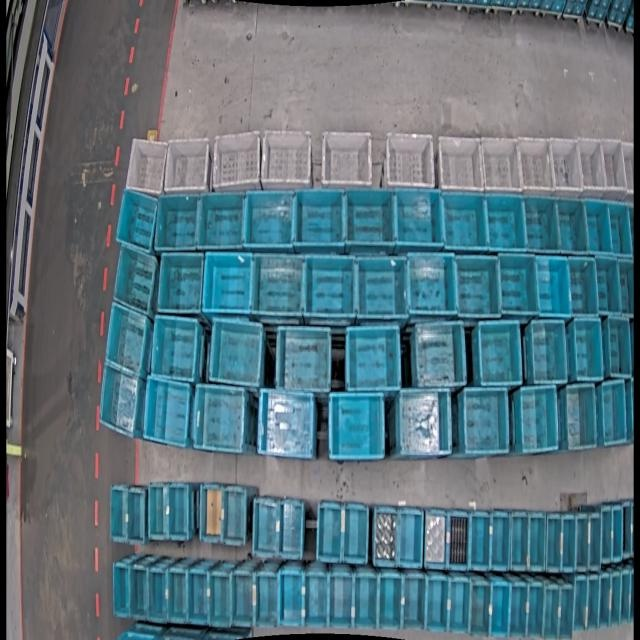Box: (327, 392, 384, 461), (208, 318, 264, 388), (343, 323, 399, 393), (258, 392, 315, 459), (273, 326, 329, 394), (193, 384, 245, 454), (147, 314, 200, 382), (110, 243, 159, 316), (139, 378, 190, 448), (251, 252, 304, 318), (100, 304, 148, 375), (201, 250, 252, 316), (398, 388, 446, 458), (306, 254, 358, 318), (97, 368, 143, 440), (413, 322, 462, 389), (156, 250, 205, 316), (354, 255, 405, 318), (212, 131, 262, 195), (262, 127, 313, 189), (291, 188, 343, 248), (322, 128, 373, 189), (408, 253, 457, 316), (462, 388, 508, 455), (386, 132, 436, 192), (344, 188, 394, 248), (478, 320, 523, 386), (246, 188, 295, 248), (114, 188, 158, 253), (198, 190, 245, 250), (396, 188, 443, 248), (154, 191, 200, 252), (456, 255, 501, 317), (162, 137, 208, 197), (520, 387, 561, 453), (438, 136, 483, 196), (440, 190, 485, 250), (124, 138, 168, 198), (484, 194, 525, 252), (528, 320, 565, 384), (499, 254, 537, 316), (480, 138, 521, 195), (518, 137, 555, 195), (534, 256, 569, 316), (522, 195, 558, 252), (570, 318, 602, 381), (564, 386, 595, 448), (555, 196, 588, 254), (550, 138, 583, 195), (599, 382, 627, 446), (567, 257, 596, 316), (603, 316, 630, 378), (584, 198, 613, 254), (254, 498, 281, 558), (219, 486, 246, 546), (343, 503, 369, 563), (398, 508, 424, 568), (578, 139, 606, 194), (600, 140, 629, 193), (316, 502, 342, 561), (373, 507, 398, 568), (278, 501, 304, 559), (165, 484, 191, 540), (303, 570, 328, 628), (198, 482, 222, 542), (423, 508, 447, 567), (595, 258, 620, 314), (328, 574, 352, 628), (379, 575, 402, 631), (355, 572, 377, 630), (255, 572, 278, 627), (279, 571, 302, 625), (609, 201, 632, 255), (468, 511, 489, 570), (232, 572, 254, 628), (187, 570, 209, 625), (403, 574, 425, 629), (510, 511, 530, 571), (208, 572, 230, 626), (426, 578, 448, 632), (490, 581, 511, 637), (490, 511, 509, 570), (470, 581, 490, 637), (448, 514, 468, 570), (167, 571, 187, 625), (450, 579, 470, 633), (129, 566, 148, 621), (128, 489, 147, 544), (526, 583, 544, 639), (528, 513, 545, 572), (148, 571, 167, 623), (511, 584, 529, 638), (546, 514, 562, 572), (110, 486, 126, 544), (542, 583, 558, 639), (113, 563, 129, 618), (559, 585, 574, 640), (562, 514, 576, 572), (574, 514, 588, 572), (586, 574, 600, 630), (607, 506, 621, 562), (572, 577, 586, 632), (599, 572, 611, 630), (601, 507, 613, 565), (620, 571, 632, 625), (589, 514, 600, 572), (622, 501, 632, 560), (612, 505, 622, 561), (610, 572, 620, 627)
